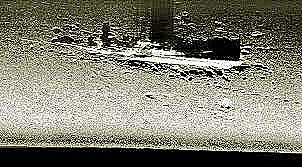ship: (48, 32, 245, 70)
